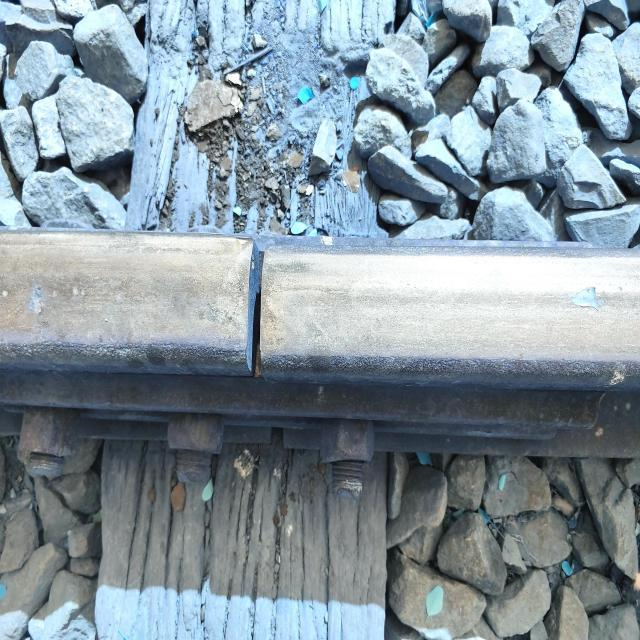Good Joint: (0, 362, 607, 485)
